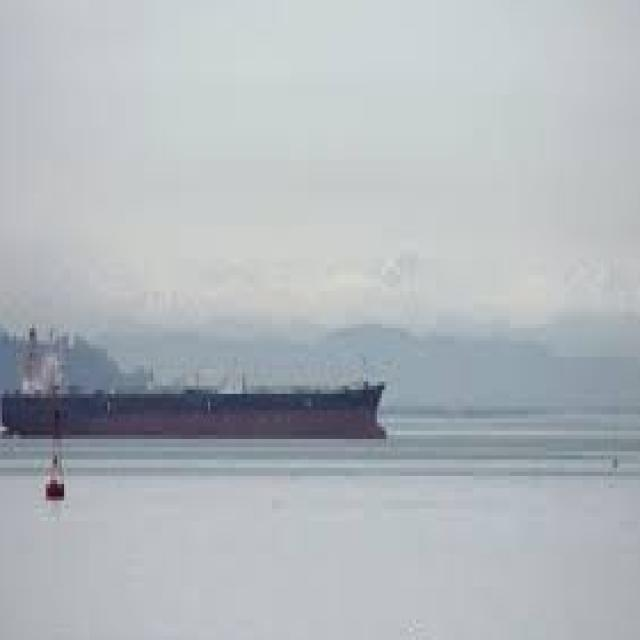cargoship: (0, 316, 393, 443)
